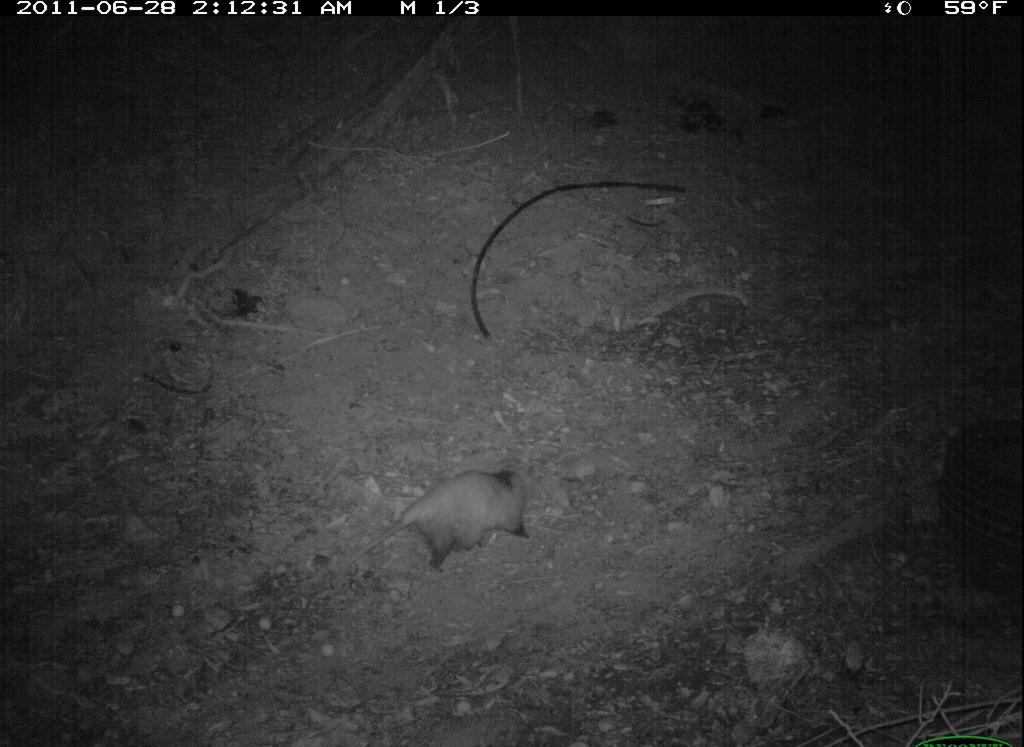opossum: (328, 464, 534, 589)
